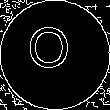O_S: (34, 30, 76, 80)
